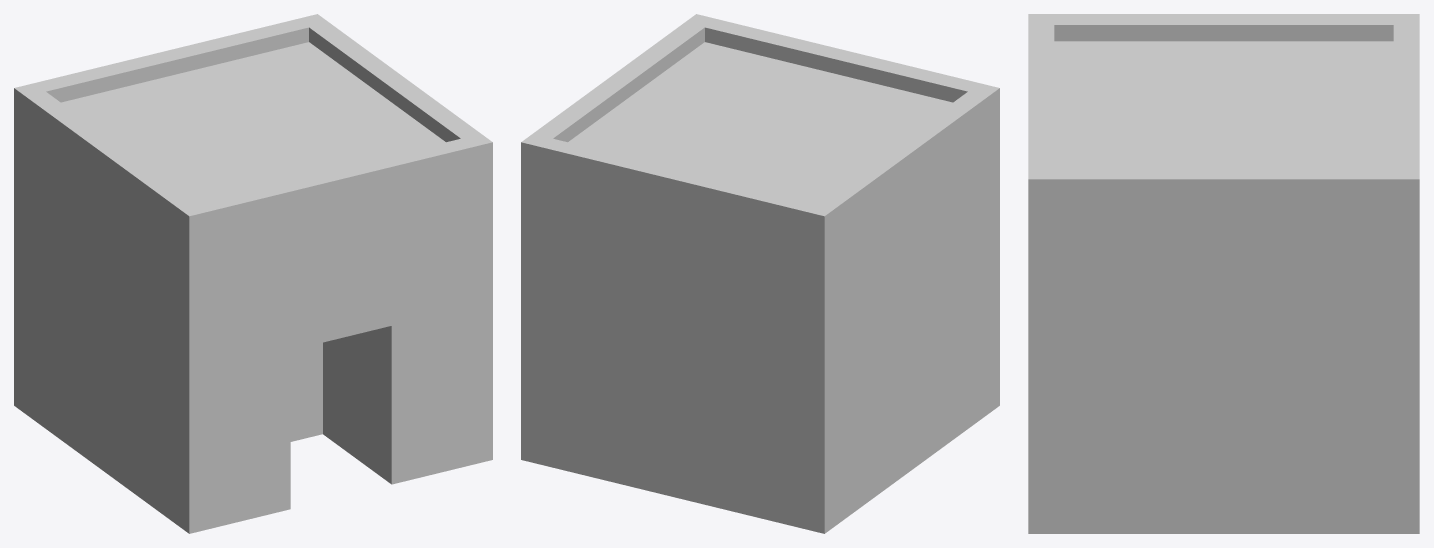
The model's file is Exit.fbx.
3 renders of one model, left to right at view 1: azimuth 30°, elevation 25°; view 2: azimuth 150°, elevation 25°; view 3: azimuth 270°, elevation 25°, orthographic. The views are drawn at different scales.
Parts seen in each view (by area): view 1: Cube.002; view 2: Cube.002; view 3: Cube.002.
Part boxes in pixels (box(x1,y1,x2,y2)): Cube.002: box(14, 14, 492, 533); Cube.002: box(521, 14, 999, 533); Cube.002: box(1028, 14, 1419, 533).
Size of the model in its own units: 942 by 942 by 942.
